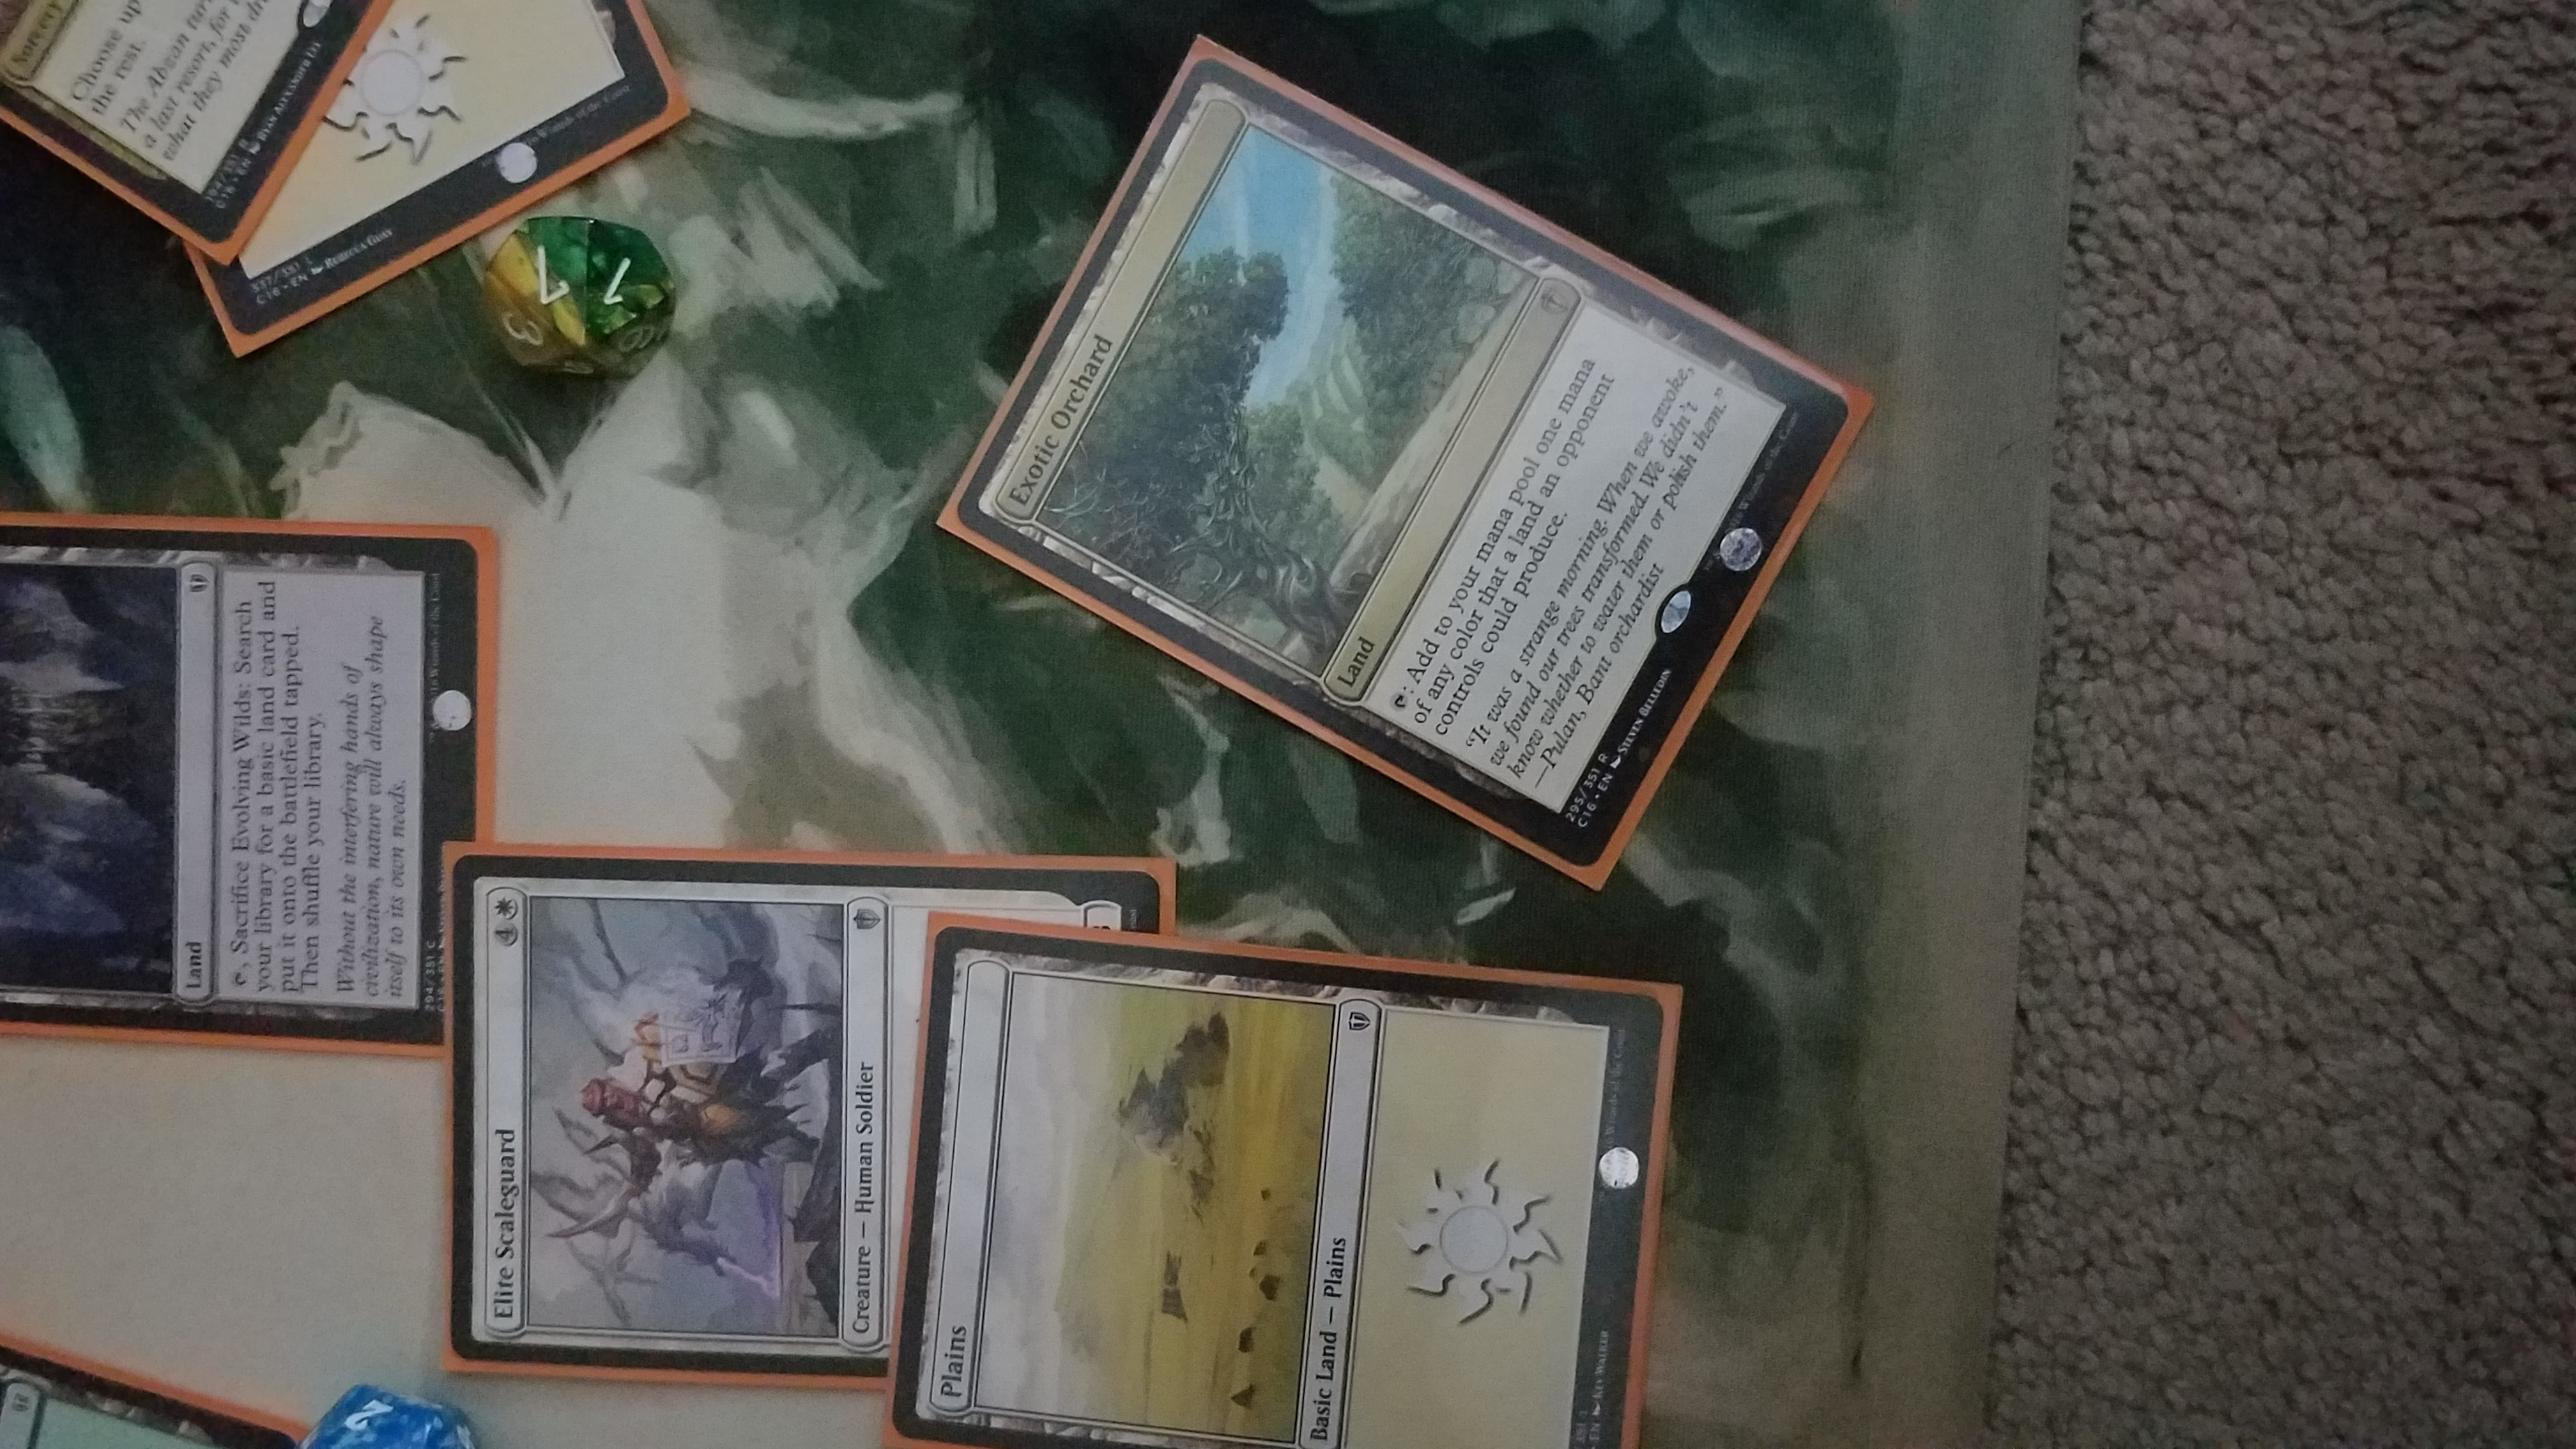Card: (955, 60, 1875, 874), (428, 846, 1168, 1408), (901, 932, 1679, 1449)
